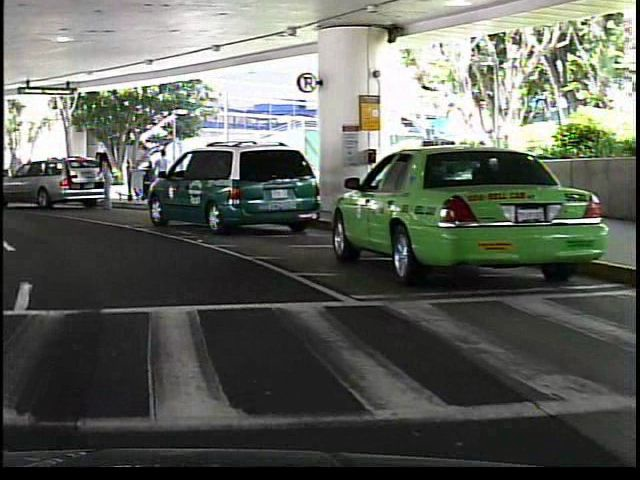person: (93, 148, 112, 210)
